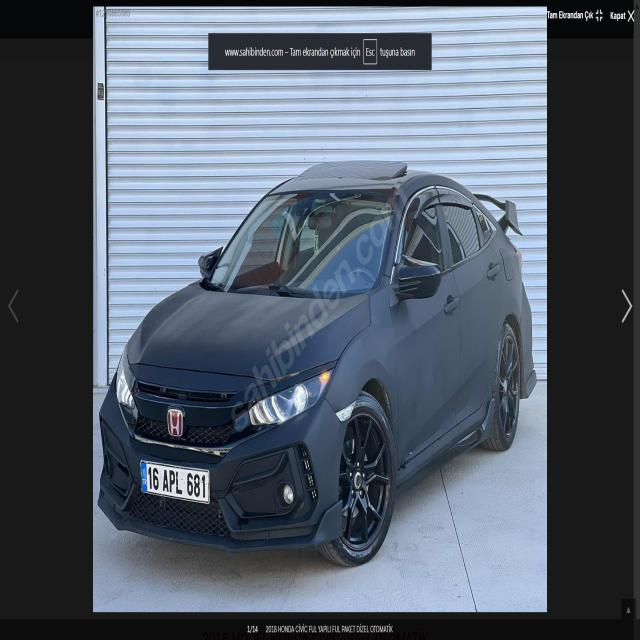honda: (160, 391, 191, 446)
